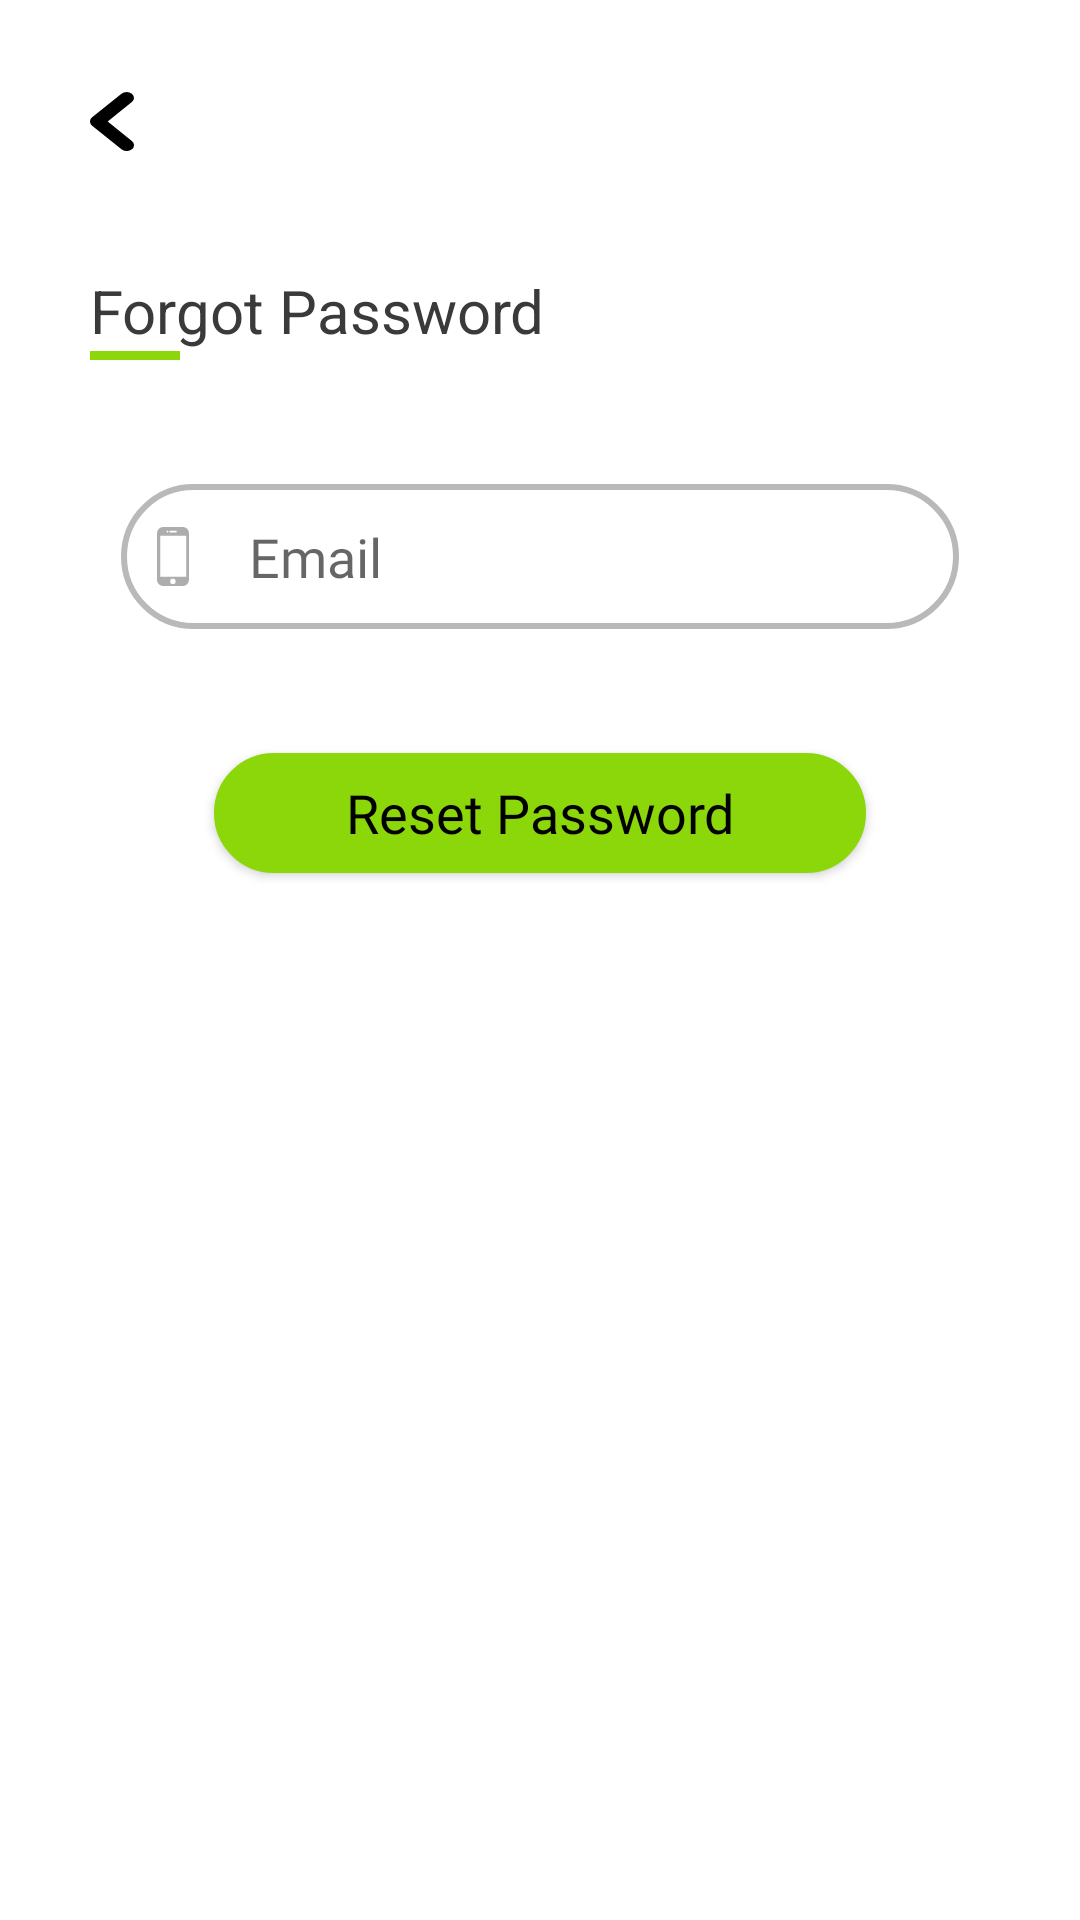

Where to tap for icons on this 1080px×1920px app screen, as (x=x, y=y):
back: (x=112, y=121)
